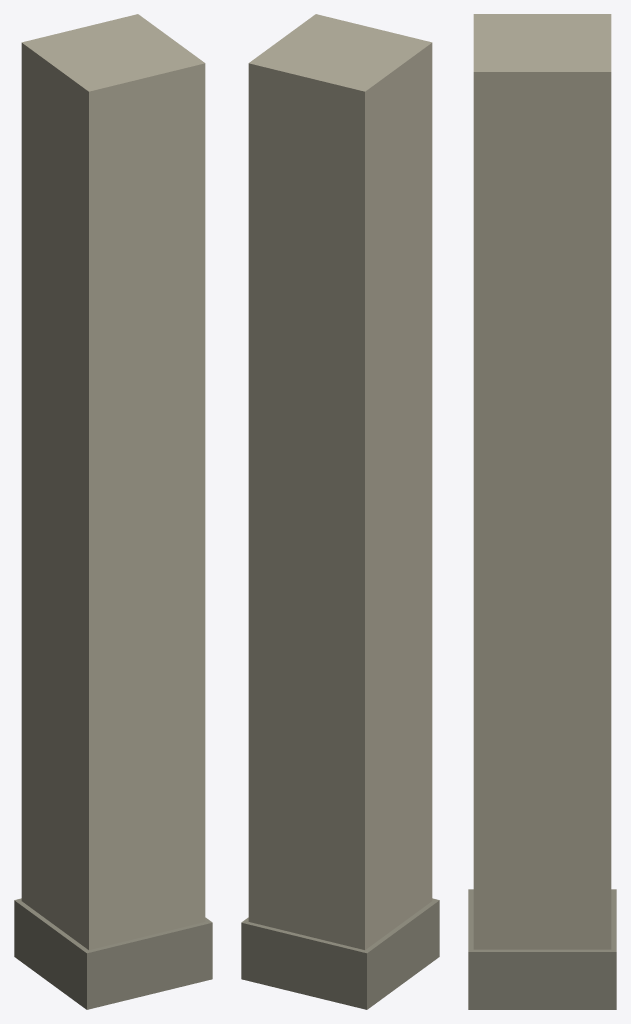
Rendered from end_quoin.glb.
3 renders of one model, left to right at view 1: azimuth 30°, elevation 25°; view 2: azimuth 150°, elevation 25°; view 3: azimuth 270°, elevation 25°, orthographic. The views are drawn at different scales.
Parts seen in each view (by area): view 1: End quoin; view 2: End quoin; view 3: End quoin.
Part boxes in pixels (bbox=[...]): End quoin: bbox=[14, 14, 212, 1009]; End quoin: bbox=[241, 14, 439, 1009]; End quoin: bbox=[468, 14, 616, 1009].
Size of the model in its own units: 0.27 by 1.88 by 0.27.
